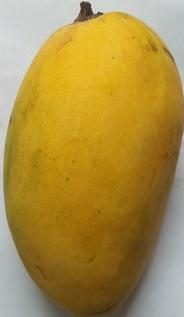Ripe: (1, 0, 184, 317)
